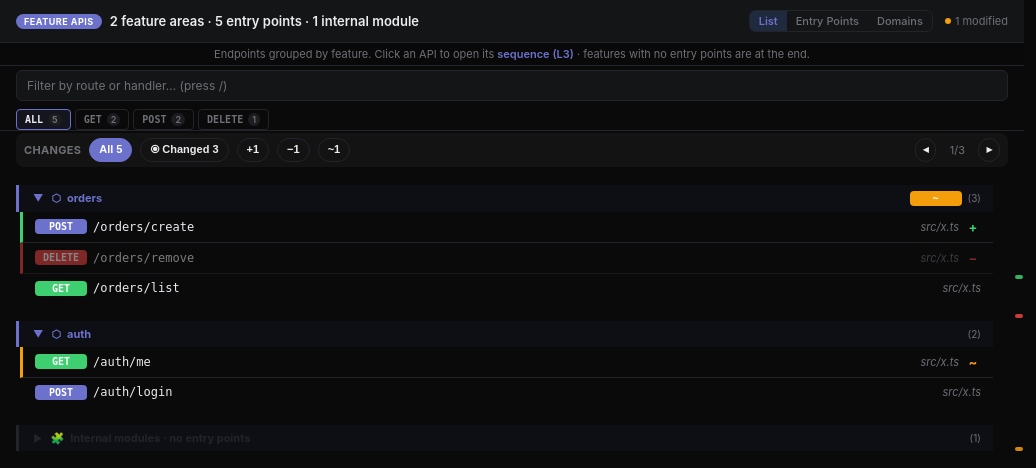
Changed filter (feature #1) › clicking "Changed" hides unchanged rows AND unchanged features
Expected: the text "/orders/list" is shown, top-left (93, 281), bottom-right (180, 295)
Click the button "⦿ Changed 3" at (184, 150), box top-left (140, 138), bottom-right (228, 162)
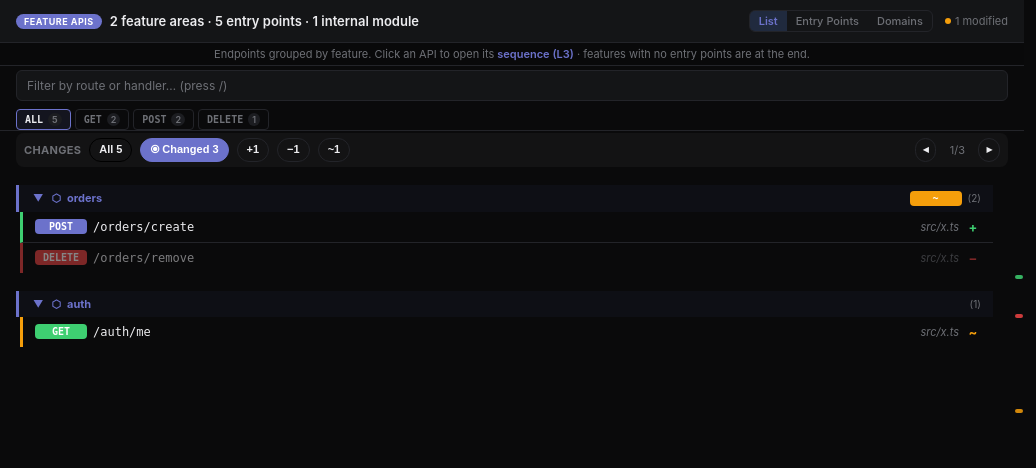
Expected: the text "/orders/create" is shown, top-left (93, 220), bottom-right (194, 234)
Now the button "/orders/list" is gone
Now the button "/auth/login" is gone
